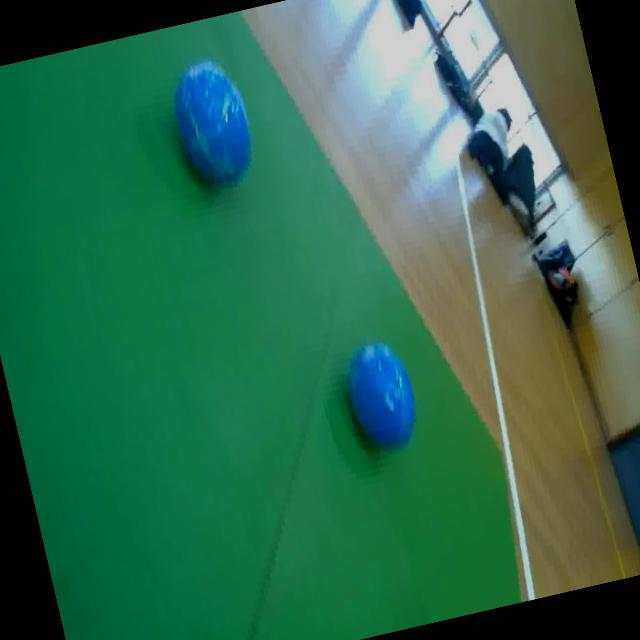blue_ball: (156, 52, 262, 197), (330, 329, 430, 468)
